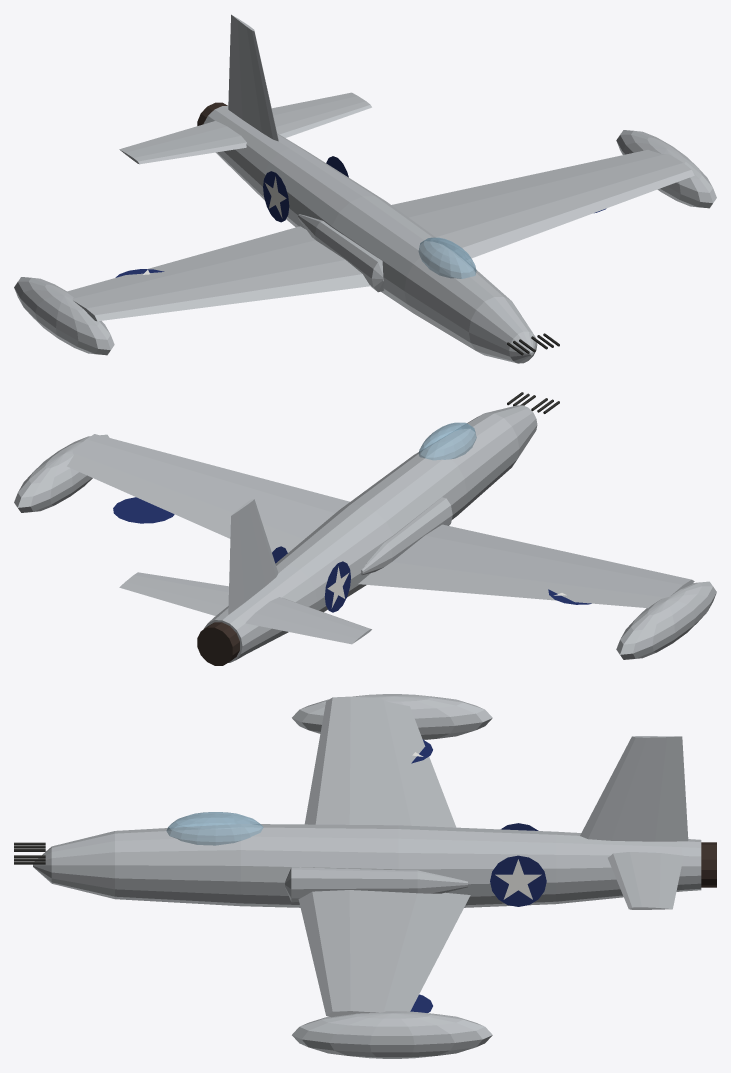
3 renders of one model, top to bottom at view 1: azimuth 30°, elevation 25°; view 2: azimuth 150°, elevation 25°; view 3: azimuth 270°, elevation 25°, orthographic. The views are drawn at different scales.
Parts seen in each view (by area): view 1: Aviao.001; view 2: Aviao.001; view 3: Aviao.001.
Boxes of the visible parts, left/top/right/bottom form: Aviao.001: left=14, top=14, right=716, bottom=363; Aviao.001: left=14, top=392, right=716, bottom=665; Aviao.001: left=14, top=694, right=716, bottom=1058.
Bounding box in the file's own units: 12.64 × 2.98 × 11.15.
